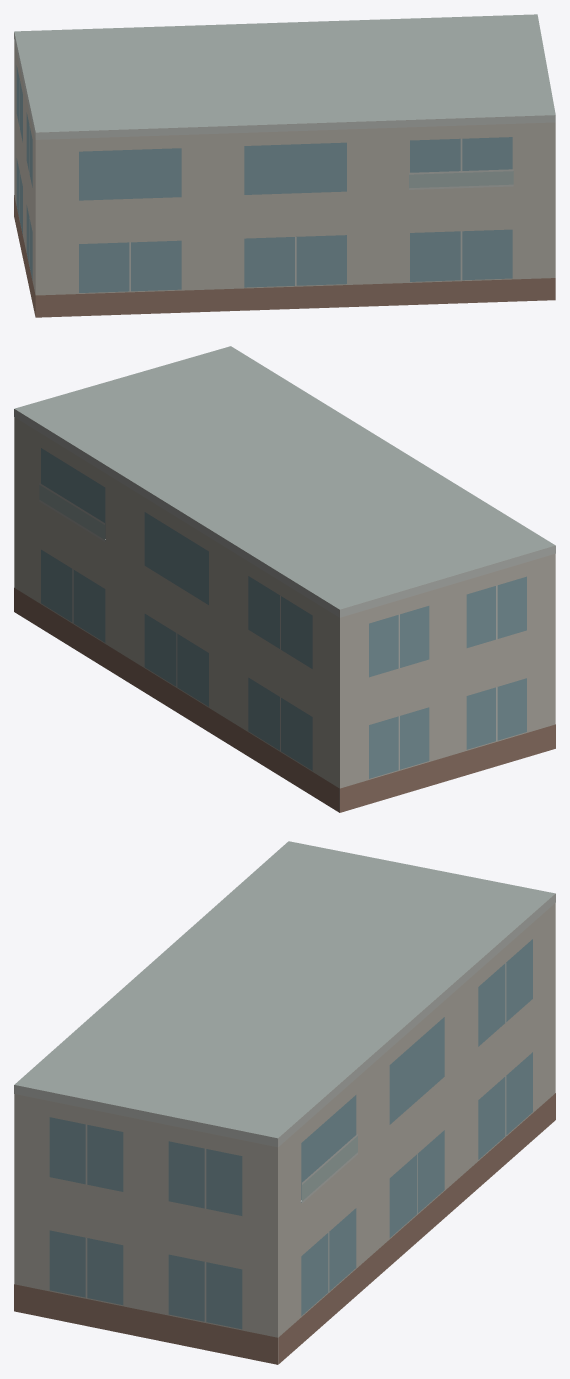
File: survey-upis-32659060.glb
The picture shows the model from 3 angles, top to bottom: view 1: azimuth 30°, elevation 25°; view 2: azimuth 150°, elevation 25°; view 3: azimuth 270°, elevation 25°; orthographic projection. The views are drawn at different scales.
Parts seen in each view (by area): view 1: survey-upis-32659060.tmp; view 2: survey-upis-32659060.tmp; view 3: survey-upis-32659060.tmp.
Boxes of the visible parts, bbox=[...] form: survey-upis-32659060.tmp: bbox=[14, 14, 555, 317]; survey-upis-32659060.tmp: bbox=[14, 346, 555, 812]; survey-upis-32659060.tmp: bbox=[14, 841, 555, 1364].
Size of the model in its own units: 17.18 by 6.1 by 13.23.
